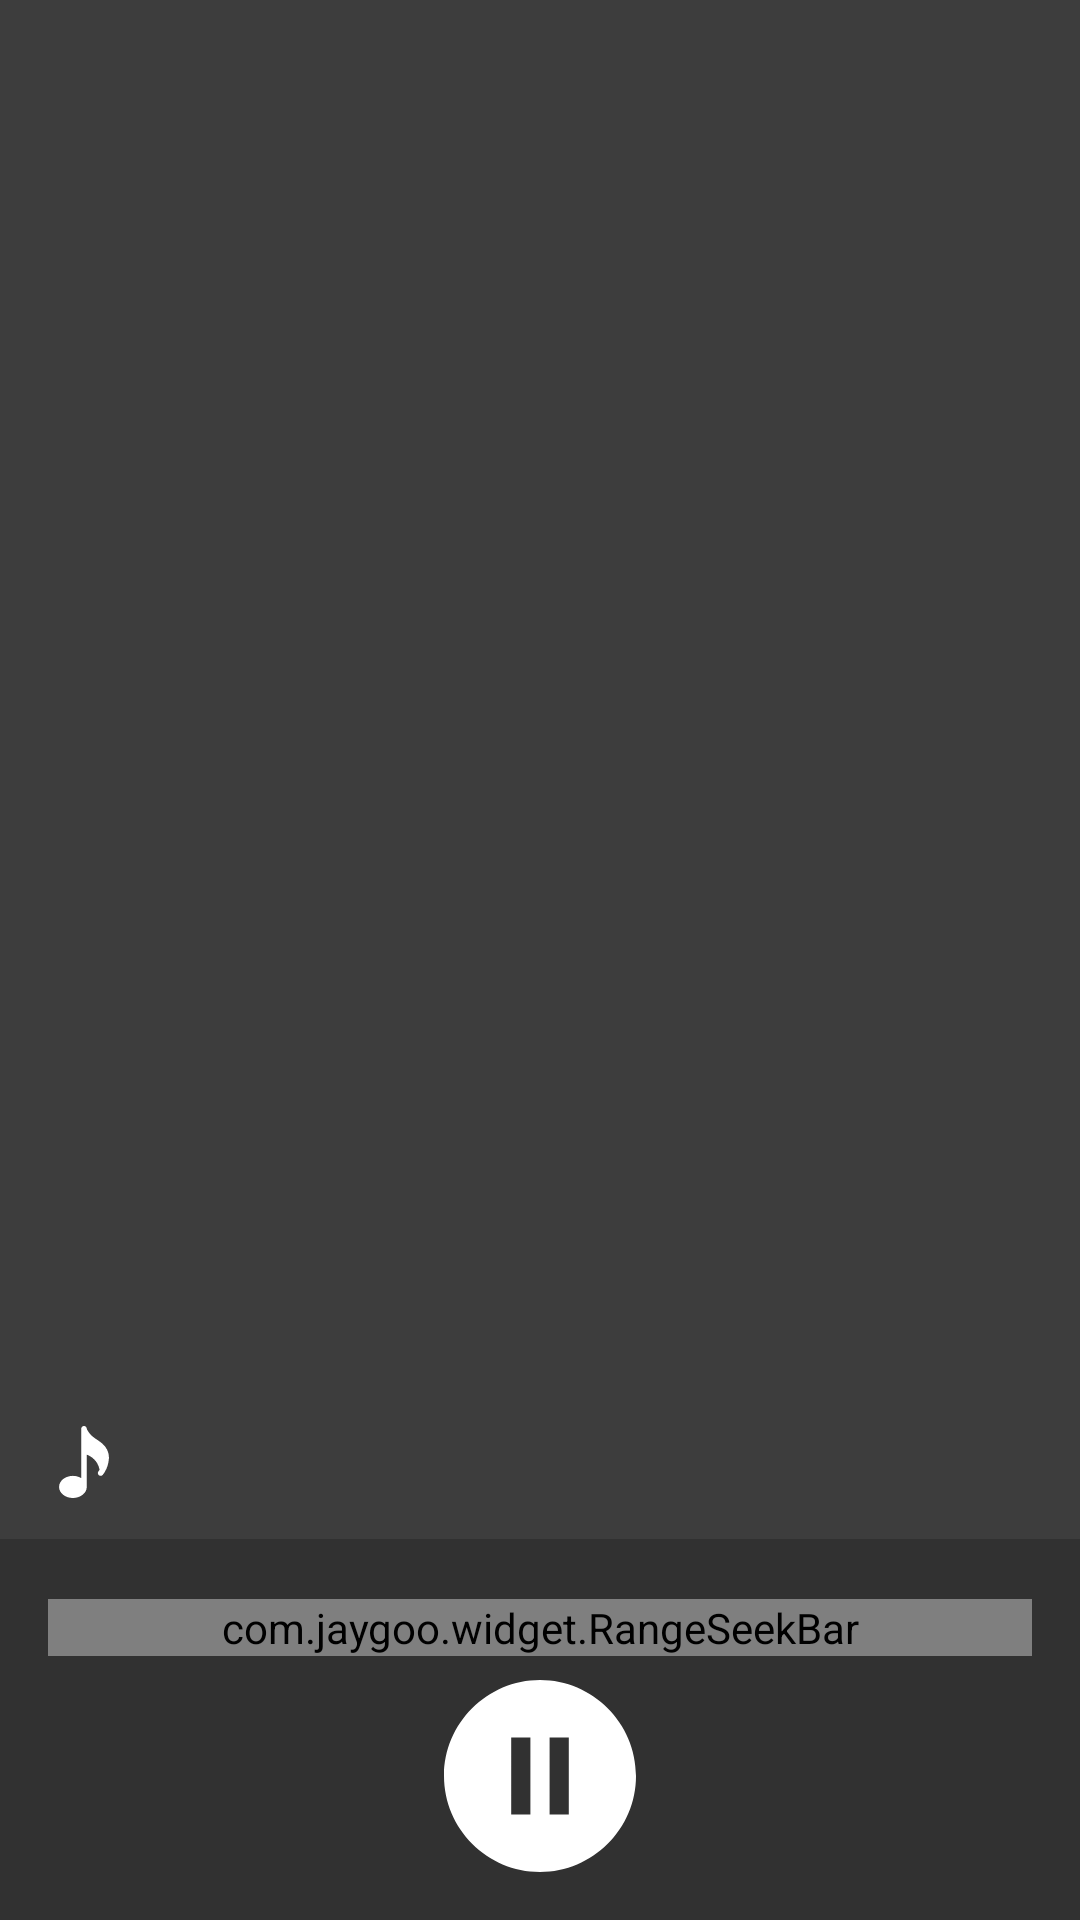

Icons on this 1080px×1920px Android screen, each with the point to tap as (x,y):
pause: (540,1776)
